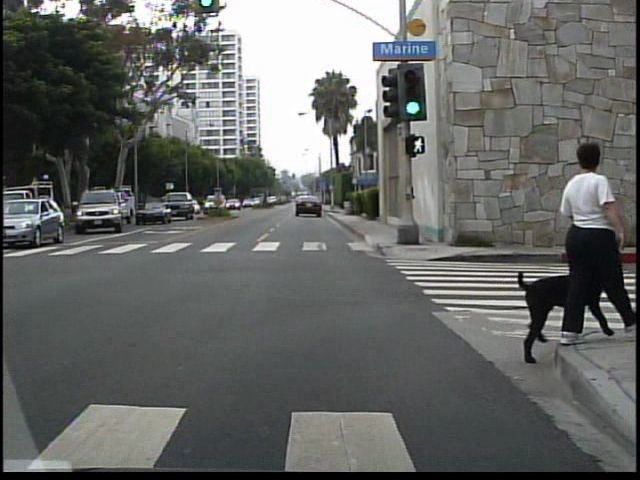person: (553, 140, 623, 341)
